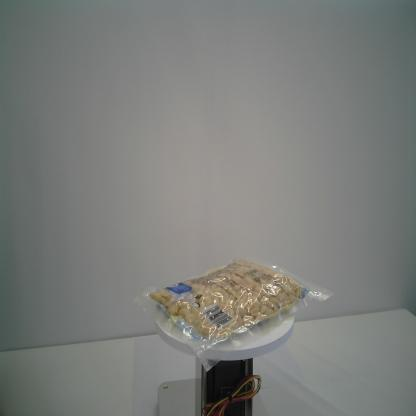Dried Fruit: (135, 253, 334, 372)
